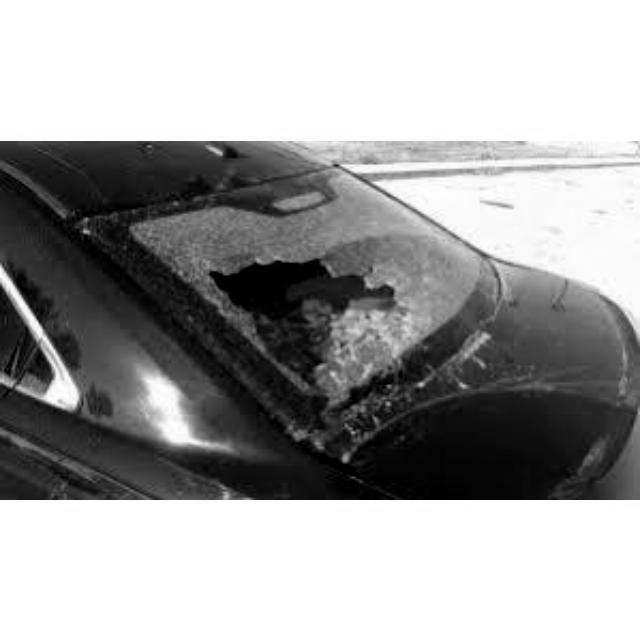Rear-windscreen-Damage: (101, 168, 505, 424)
